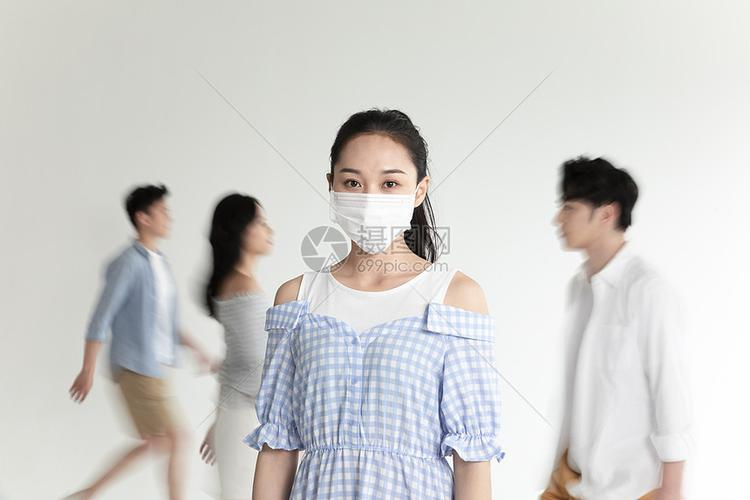mask: (325, 123, 443, 265)
